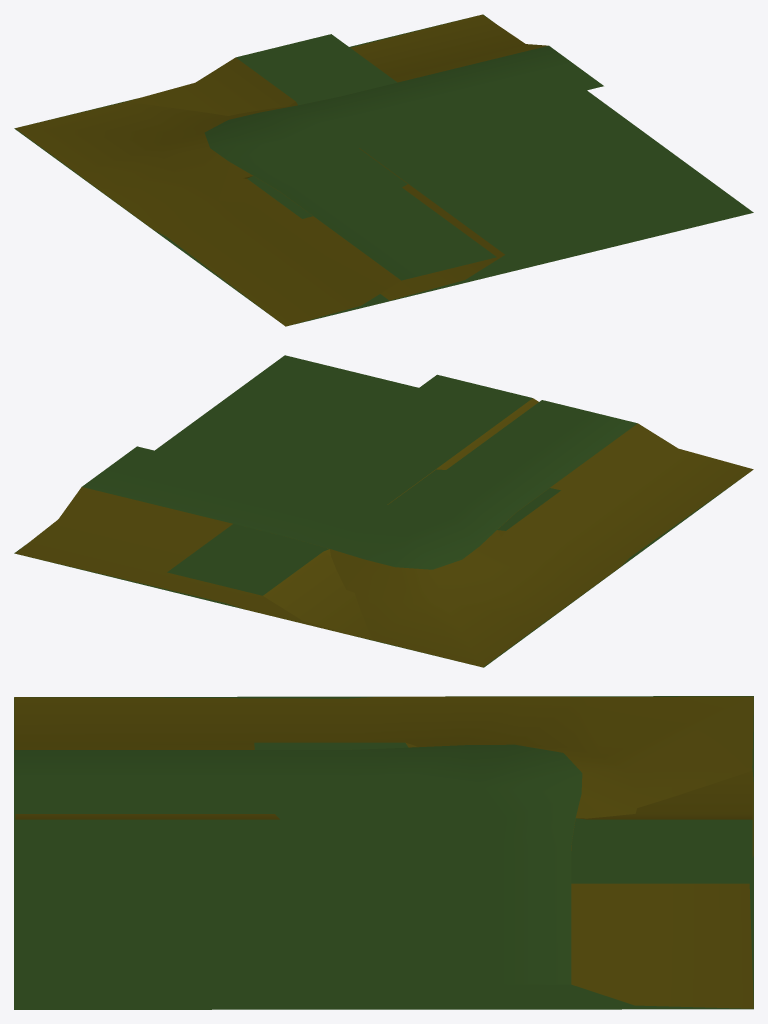
The model's file is SRoad.fbx.
3 views of the same model, one above another, from view 1: azimuth 30°, elevation 25°; view 2: azimuth 150°, elevation 25°; view 3: azimuth 270°, elevation 25° (orthographic). The views are drawn at different scales.
Visible parts, largest first — view 1: Q112, Q48, Q240, Q16; view 2: Q112, Q48, Q240, Q16; view 3: Q112, Q240, Q48, Q16.
Boxes of the visible parts, x1,y1,x2,y2 form: Q112: [15, 14, 603, 326]; Q48: [127, 34, 600, 300]; Q240: [14, 14, 753, 325]; Q16: [243, 102, 407, 218]; Q112: [15, 400, 753, 667]; Q48: [167, 374, 538, 639]; Q240: [14, 355, 746, 667]; Q16: [323, 469, 560, 555]; Q112: [14, 696, 753, 1008]; Q240: [14, 696, 753, 1009]; Q48: [15, 770, 752, 883]; Q16: [254, 742, 587, 819].
Size of the model in its own units: 100 by 3.7 by 99.97.
